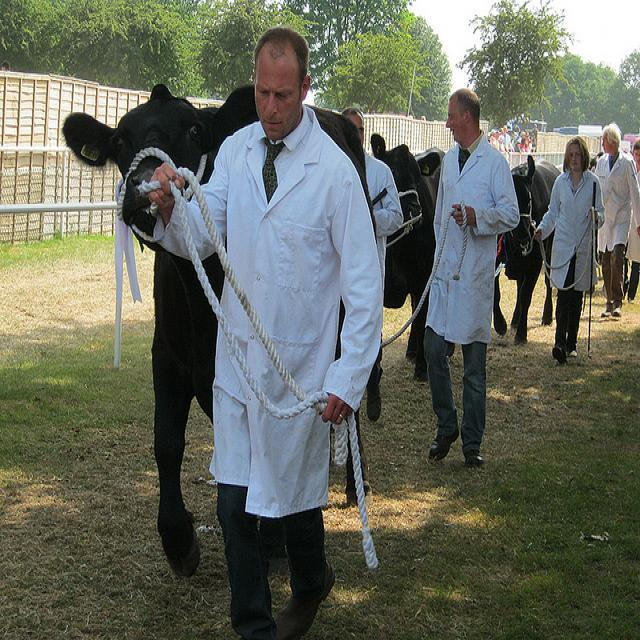cow: (59, 77, 253, 563), (372, 133, 442, 379), (493, 155, 557, 347), (587, 150, 603, 170)
